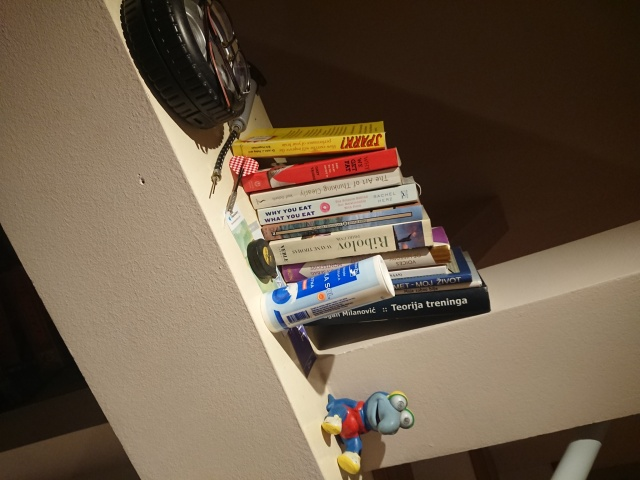Solana Pag Fine Sea Salt 250g: (258, 252, 398, 335)
